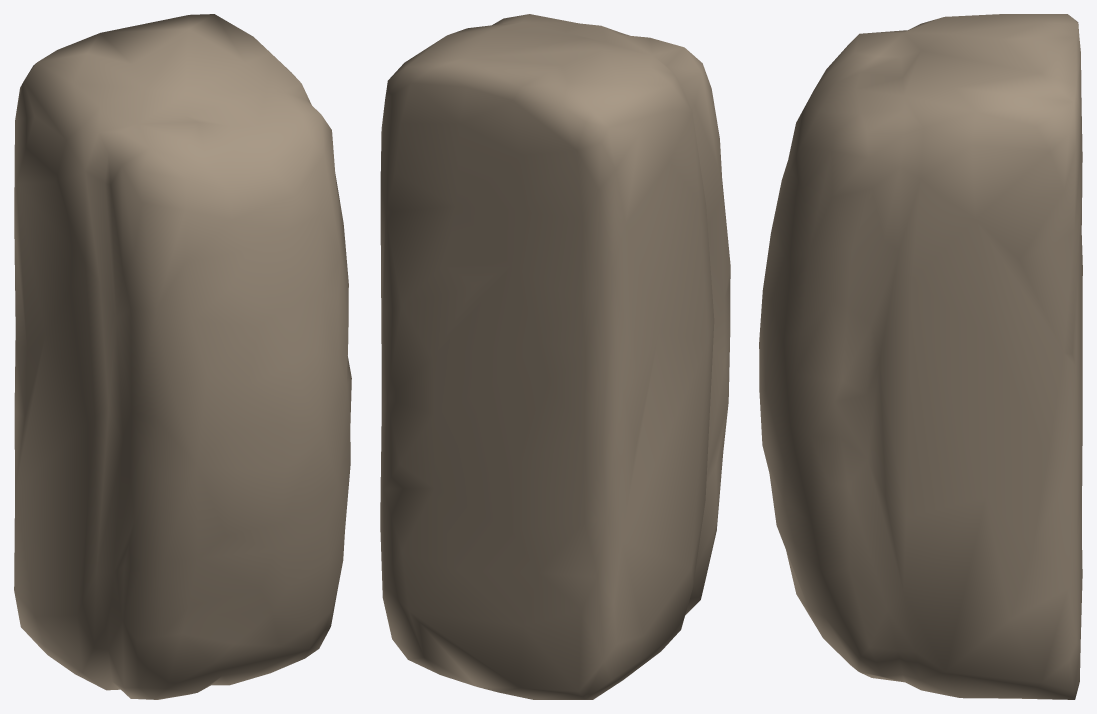
Rendered from MeshBread2BMesh_0.obj.
The picture shows the model from 3 angles, left to right: view 1: azimuth 30°, elevation 25°; view 2: azimuth 150°, elevation 25°; view 3: azimuth 270°, elevation 25°; orthographic projection. The views are drawn at different scales.
Visible parts, largest first — view 1: Bread2BMesh; view 2: Bread2BMesh; view 3: Bread2BMesh.
Boxes of the visible parts, <box> form: Bread2BMesh: <box>14,14,351,699</box>; Bread2BMesh: <box>380,14,730,699</box>; Bread2BMesh: <box>759,14,1082,699</box>.
Bounding box in the file's own units: 0.138 × 0.3279 × 0.1558.
